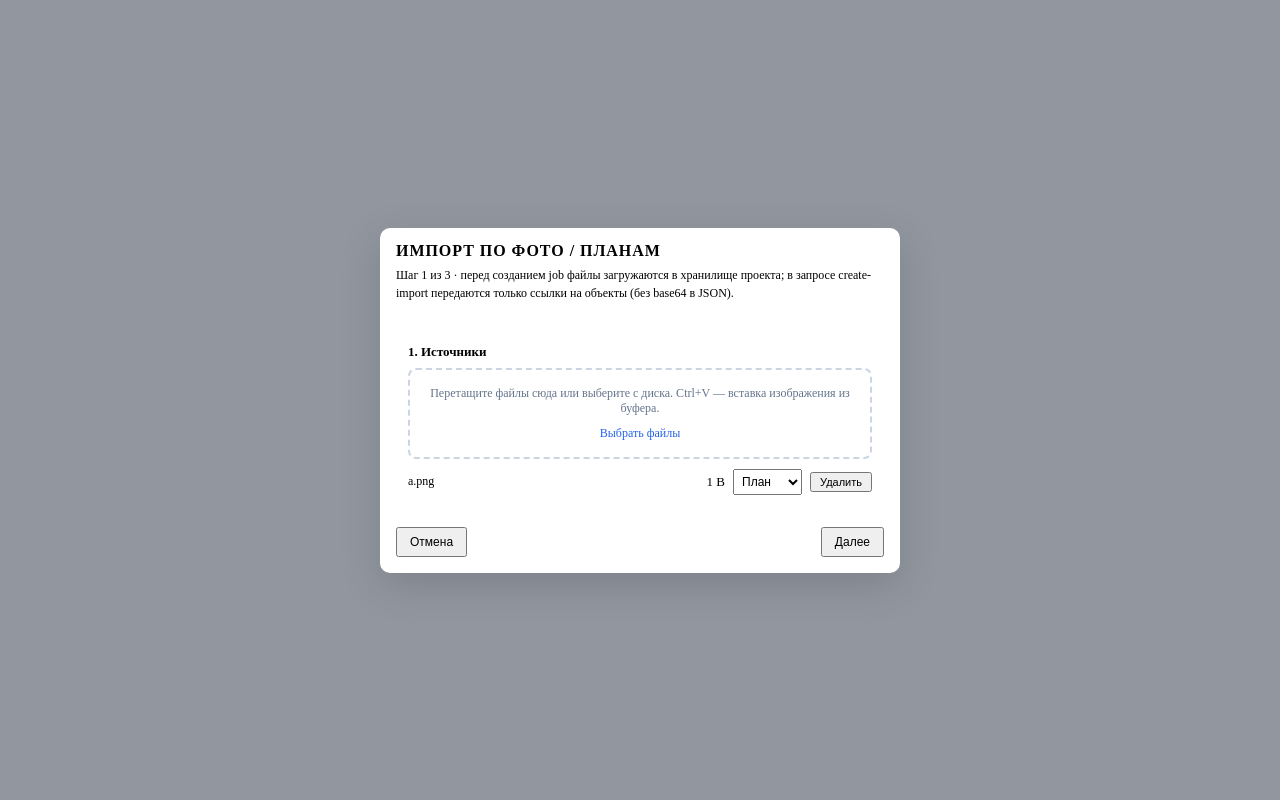
AiImportWizardModal › adds file via input and removes
Earlier steps of the test are not shown.
Expected: the text "a.png" is shown, [408,474,434,488]
Click the button "Удалить" at {"x": 841, "y": 482}, box [810,472,872,492]
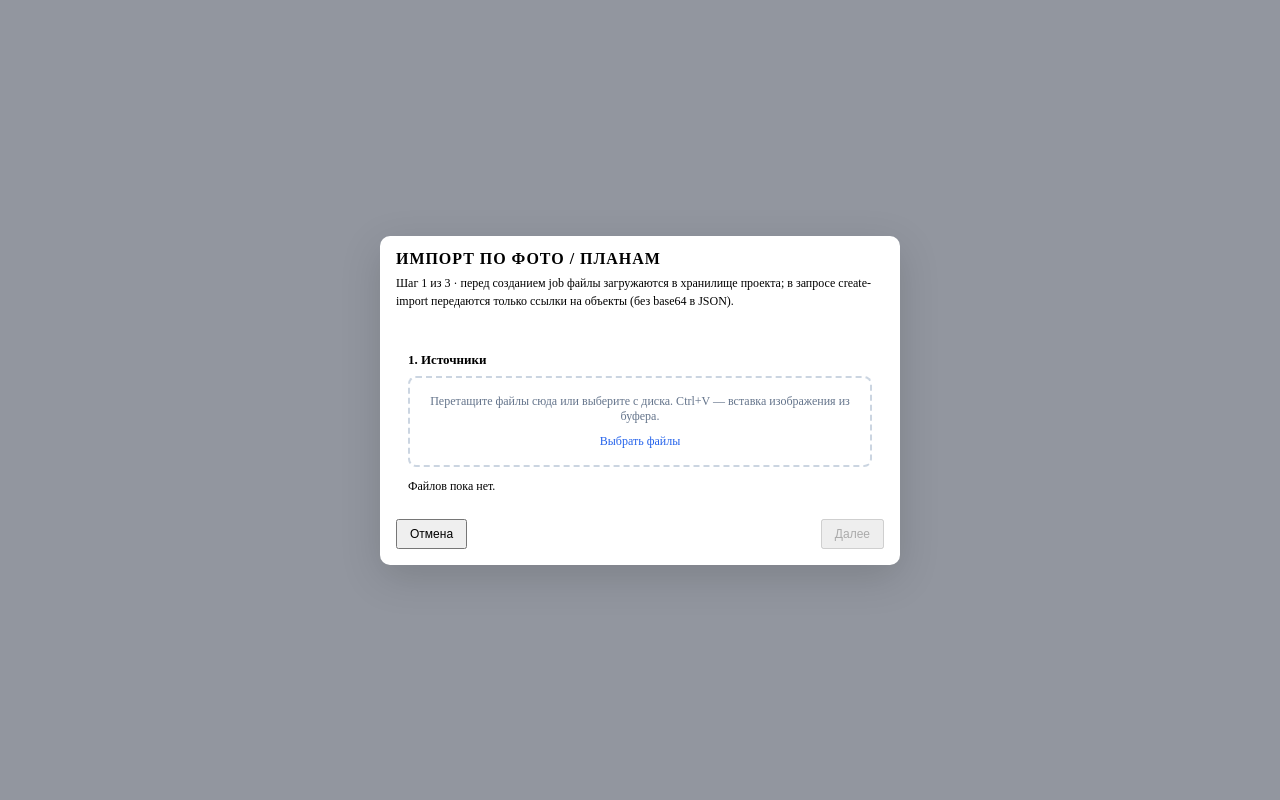
Expected: the text "a.png" is gone
